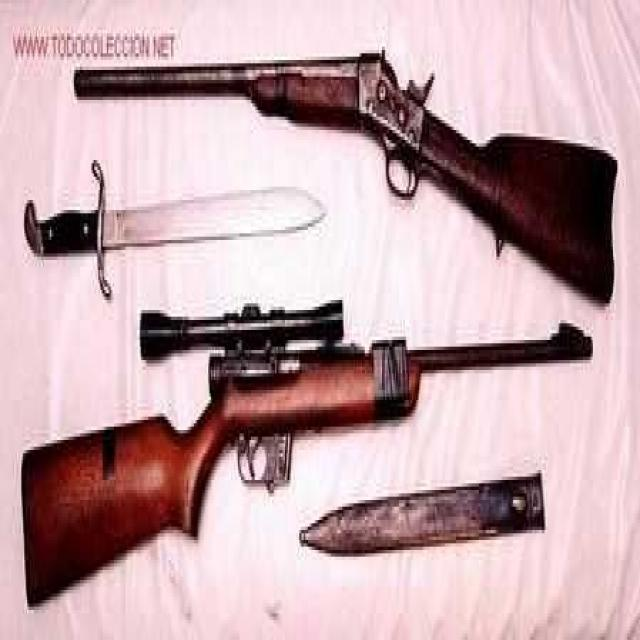weapon: (62, 17, 630, 324)
